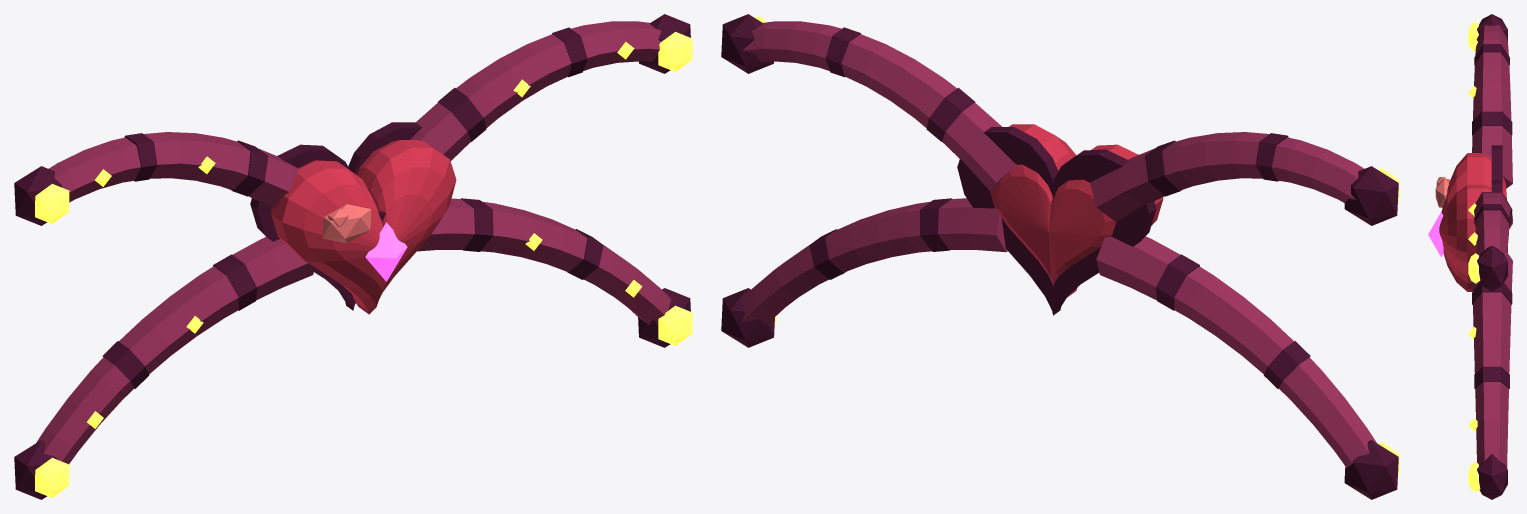
File: hive_heart.glb
The picture shows the model from 3 angles, left to right: view 1: azimuth 30°, elevation 25°; view 2: azimuth 150°, elevation 25°; view 3: azimuth 270°, elevation 25°; orthographic projection. The views are drawn at different scales.
Visible parts, largest first — view 1: heart, vein_2, vein_1, vein_0, vein_3, heart_core; view 2: vein_2, heart, vein_1, vein_0, vein_3; view 3: vein_3, vein_0, heart, vein_1, heart_core.
Part boxes in pixels (box(x1,y1,x2,y2)): heart: box(250, 122, 456, 314); vein_2: box(14, 237, 314, 499); vein_1: box(410, 14, 692, 160); vein_0: box(14, 132, 299, 225); vein_3: box(417, 198, 692, 347); heart_core: box(365, 222, 407, 281); vein_2: box(1096, 236, 1399, 499); heart: box(957, 124, 1163, 315); vein_1: box(721, 14, 1015, 191); vein_0: box(1090, 132, 1399, 225); vein_3: box(721, 198, 1007, 347); vein_3: box(1468, 253, 1512, 499); vein_0: box(1468, 14, 1512, 188); heart: box(1435, 145, 1508, 291); vein_1: box(1468, 192, 1512, 291); heart_core: box(1428, 212, 1443, 256).
Size of the model in its own units: 108 by 51.85 by 15.5.
